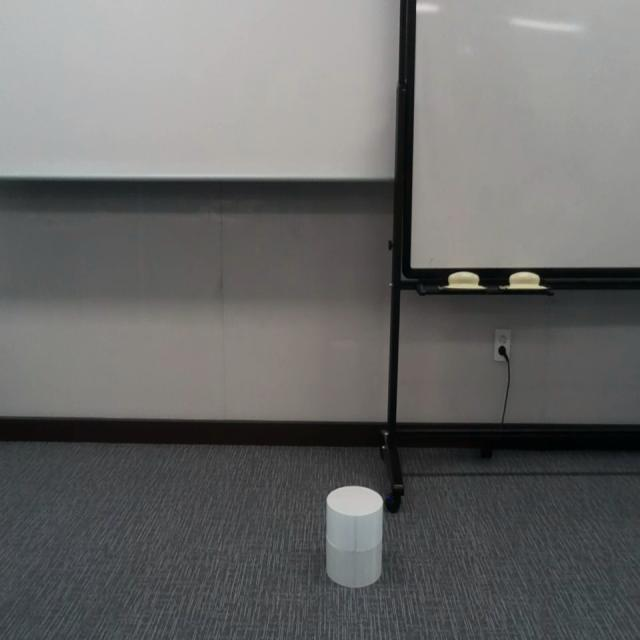cylinder: (326, 485, 384, 587)
